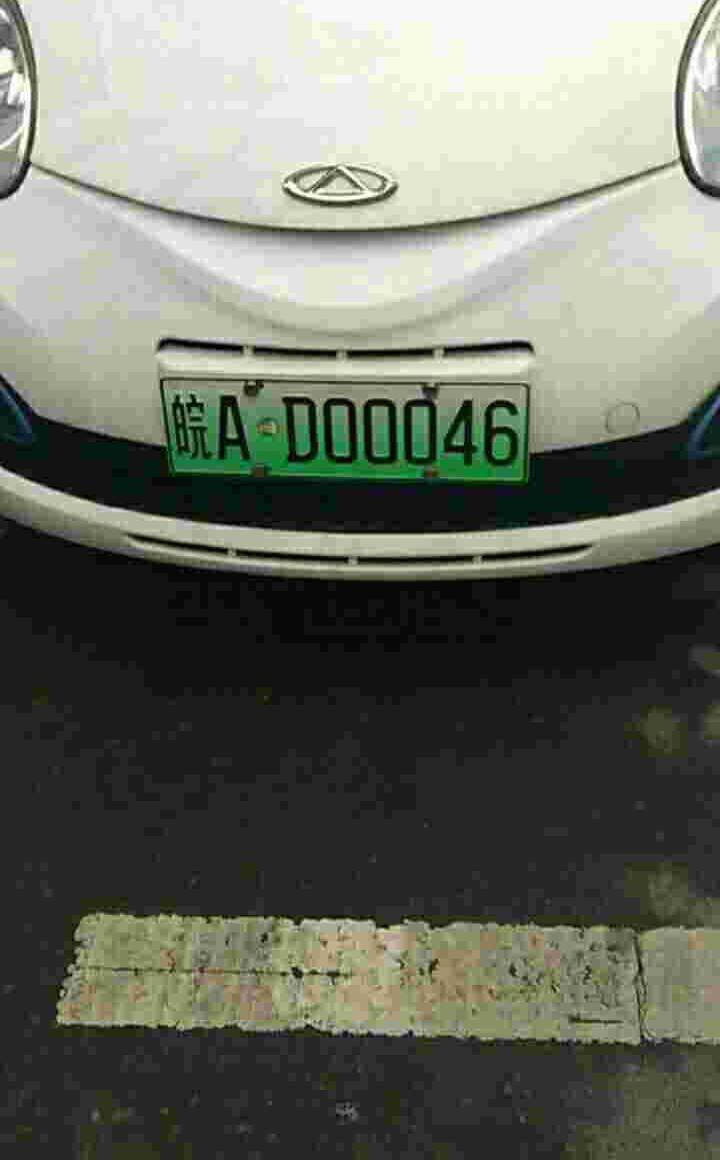car_id: (160, 377, 529, 480)
